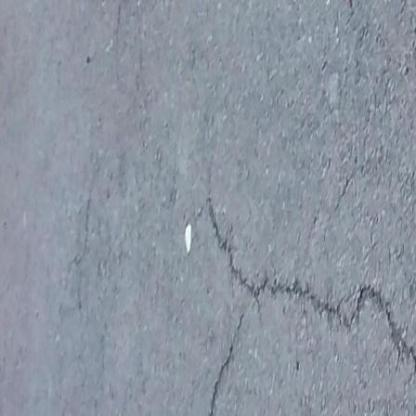Cracks: (229, 255, 416, 371), (168, 147, 278, 318), (194, 267, 273, 416)
